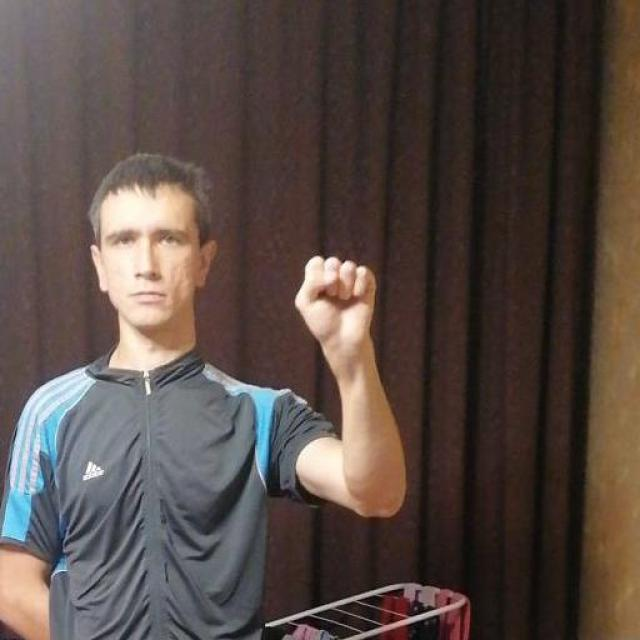hand: (294, 254, 378, 354)
